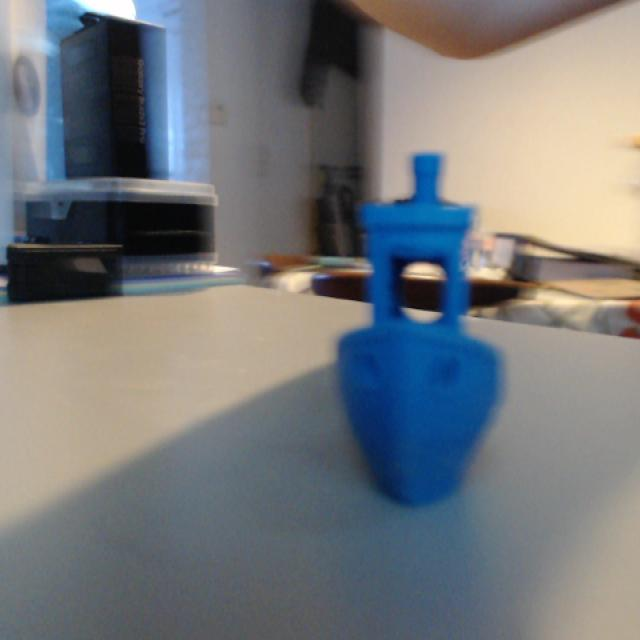benchy: (333, 147, 507, 508)
